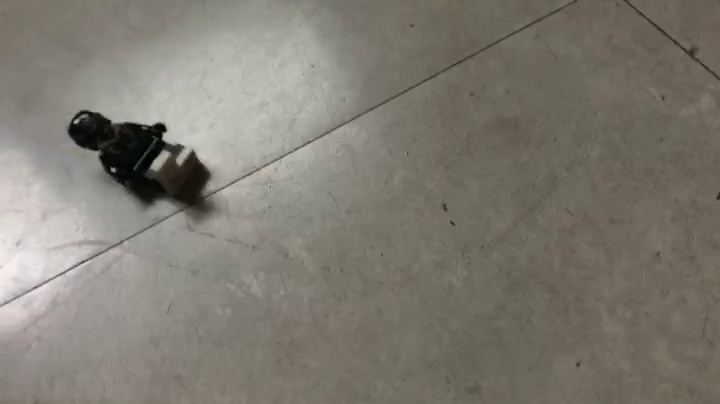people: (65, 109, 213, 204)
